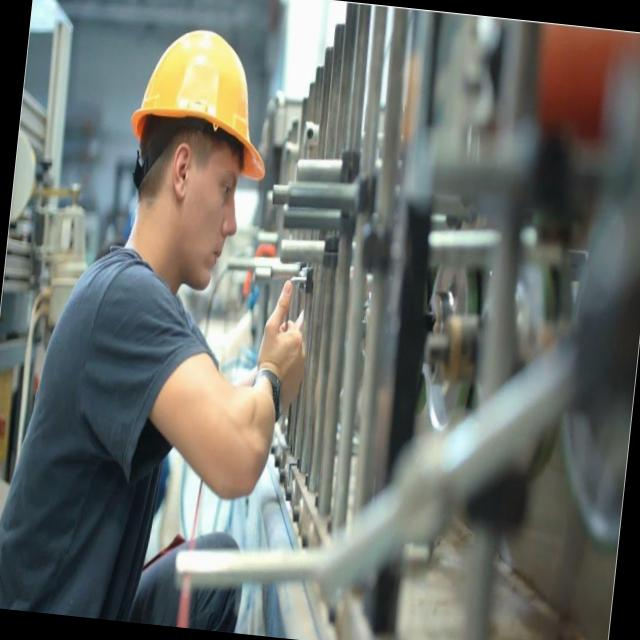helmet: (126, 17, 284, 186)
no-vest: (19, 233, 208, 624)
